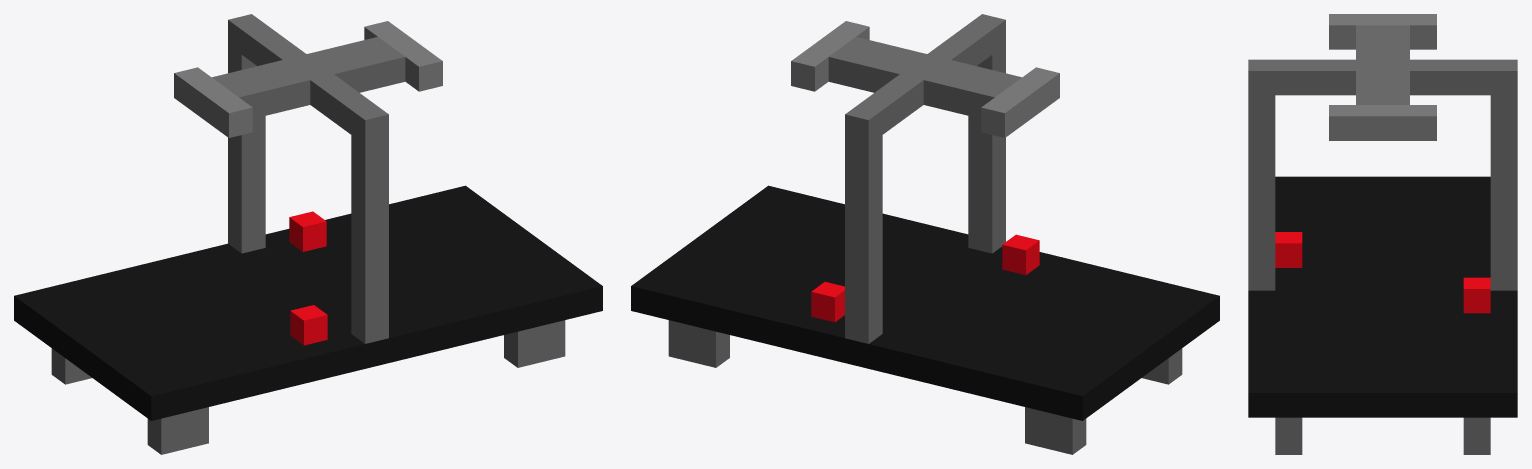
The model's file is handcar.dae.
The picture shows the model from 3 angles, left to right: view 1: azimuth 30°, elevation 25°; view 2: azimuth 150°, elevation 25°; view 3: azimuth 270°, elevation 25°; orthographic projection.
Visible parts, largest first — view 1: handcar; view 2: handcar; view 3: handcar.
Boxes of the visible parts, x1,y1,x2,y2 form: handcar: [14, 14, 602, 454]; handcar: [631, 14, 1219, 454]; handcar: [1248, 14, 1517, 454].
Bounding box in the file's own units: 1.9 × 1 × 1.2.
Materials: 1 (1 with a texture image).
